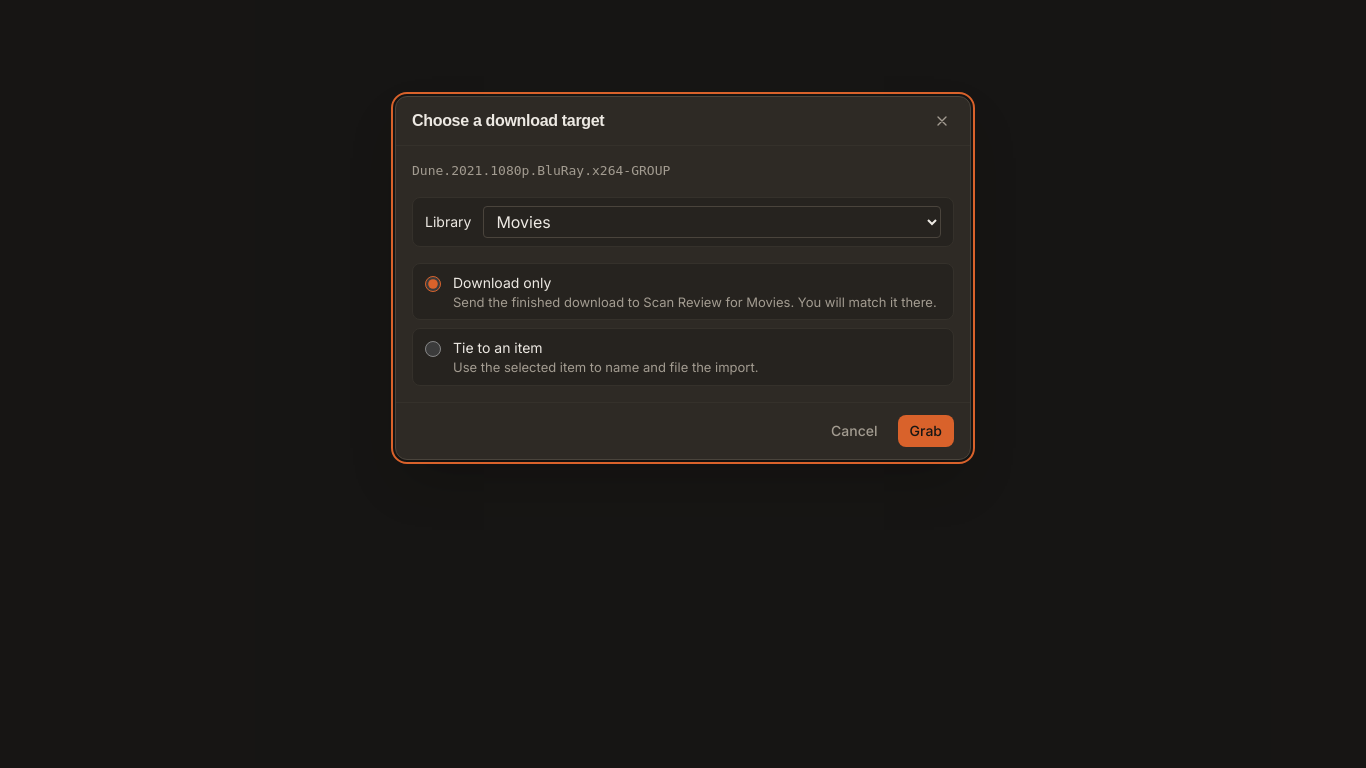
Test: GrabTargetModal › hides items another library owns, because the server would refuse the tie
This screenshot has width=1366, height=768.
Click the 2nd radio button: click(433, 349) [425,341,441,357]
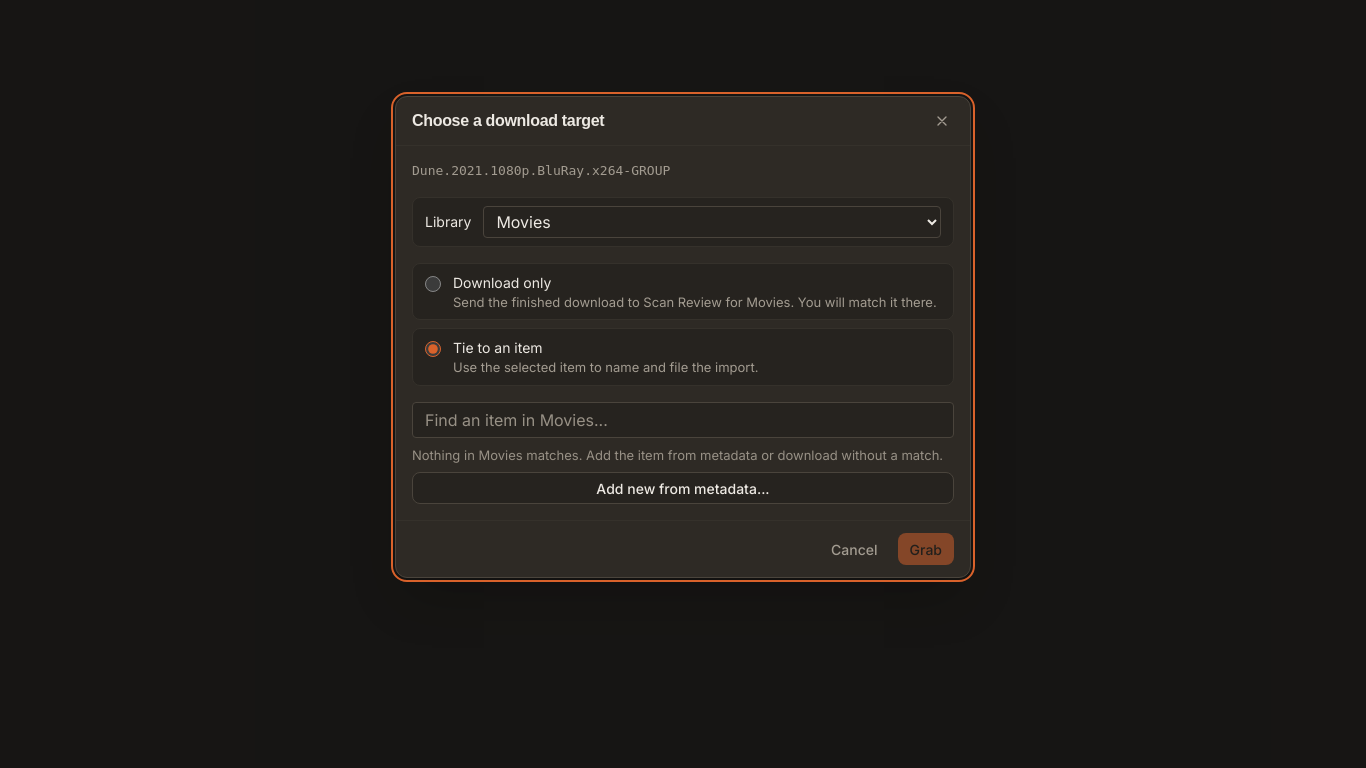
Expected: the text "Nothing in Movies matches" is shown, [412,447,943,463]
